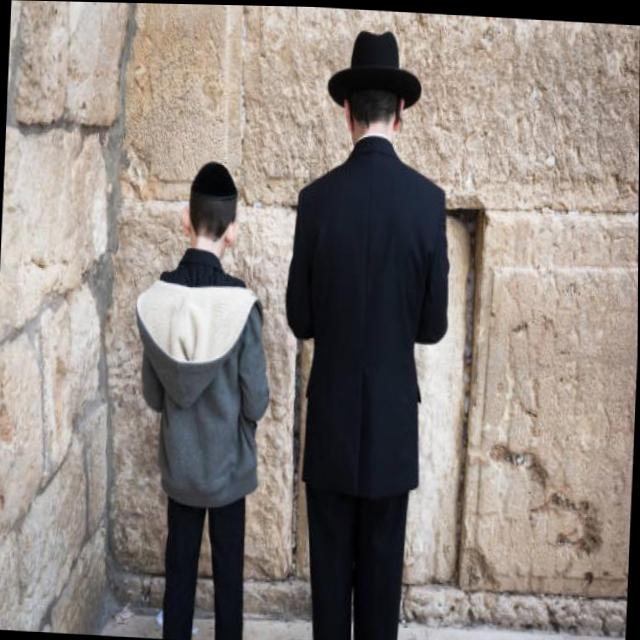no helmet: (309, 11, 433, 165)
